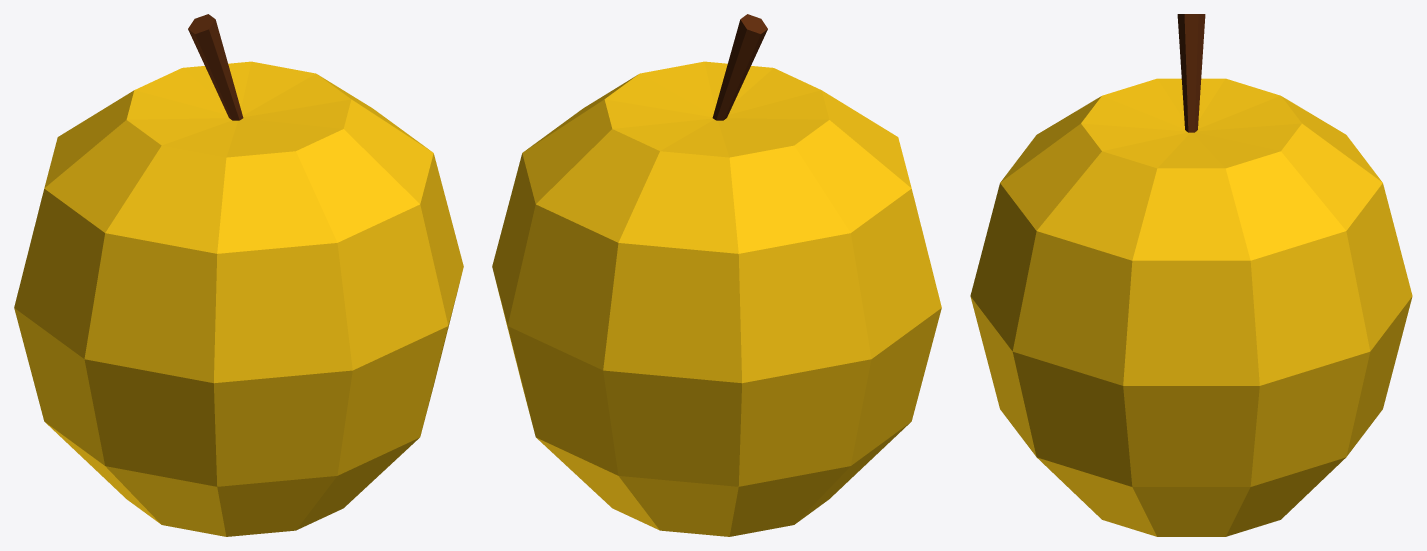
The model's file is LowPolyYellowApple.fbx.
3 renders of one model, left to right at view 1: azimuth 30°, elevation 25°; view 2: azimuth 150°, elevation 25°; view 3: azimuth 270°, elevation 25°, orthographic. The views are drawn at different scales.
Parts seen in each view (by area): view 1: Sphere; view 2: Sphere; view 3: Sphere.
Boxes of the visible parts, x1,y1,x2,y2 form: Sphere: (14, 14, 463, 536); Sphere: (492, 14, 941, 536); Sphere: (970, 14, 1412, 536).
Size of the model in its own units: 228 by 276 by 237.
Materials: 1 (1 with a texture image).
